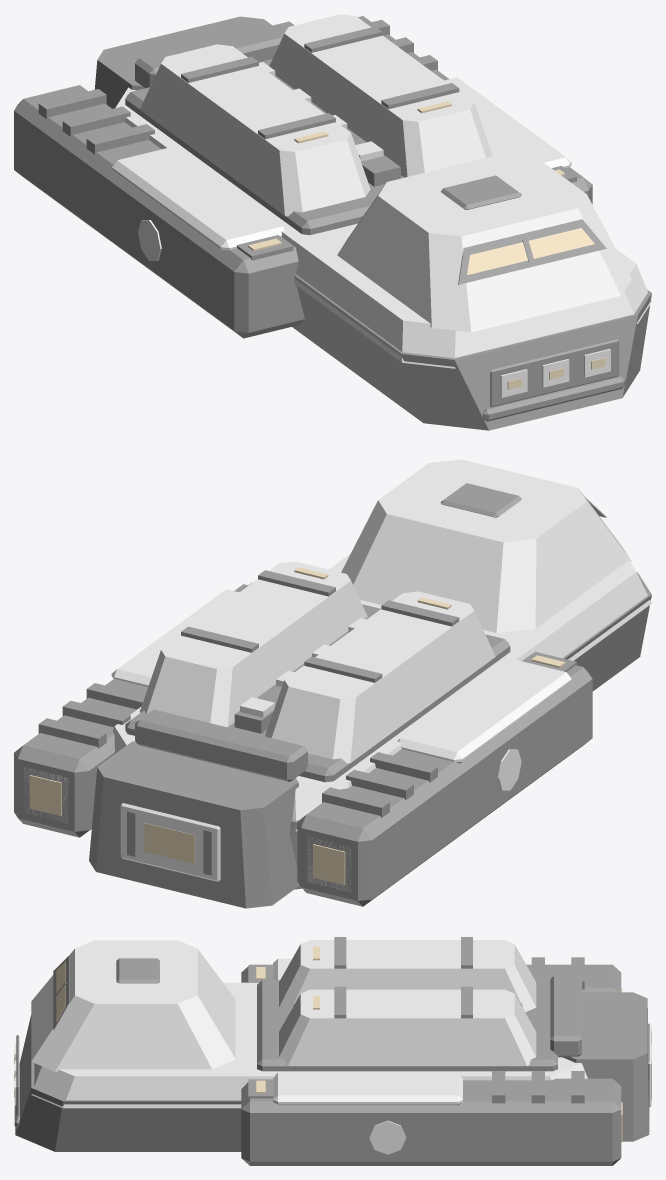
The model's file is Constructor.glb.
3 renders of one model, top to bottom at view 1: azimuth 30°, elevation 25°; view 2: azimuth 150°, elevation 25°; view 3: azimuth 270°, elevation 25°, orthographic. The views are drawn at different scales.
Parts seen in each view (by area): view 1: Enclosed command cab, Engine sponson -1, Fabricator cassette -1, Fabricator cassette 1, Utility keel, Hull deck, Engine armor -1, Stern propulsion plenum, Fabrication bed, Nose tool recess, Engine armor 1, Windscreen frame (+14 smaller); view 2: Enclosed command cab, Engine sponson -1, Stern propulsion plenum, Fabricator cassette -1, Fabricator cassette 1, Hull deck, Engine armor -1, Engine sponson 1, Aft power manifold, Stern nozzle well, Utility keel, Fabrication bed (+18 smaller); view 3: Engine sponson 1, Enclosed command cab, Fabricator cassette 1, Utility keel, Fabricator cassette -1, Hull deck, Stern propulsion plenum, Engine armor 1, Fabrication bed, Aft power manifold, Engine sponson -1, Cab roof hatch (+11 smaller).
Part boxes in pixels (x1=…): Enclosed command cab: x1=337, y1=153, x2=631, y2=332; Engine sponson -1: x1=14, y1=85, x2=304, y2=338; Fabricator cassette -1: x1=139, y1=44, x2=370, y2=216; Fabricator cassette 1: x1=269, y1=14, x2=492, y2=177; Utility keel: x1=292, y1=274, x2=651, y2=430; Hull deck: x1=115, y1=87, x2=651, y2=368; Engine armor -1: x1=111, y1=146, x2=285, y2=251; Stern propulsion plenum: x1=94, y1=16, x2=272, y2=108; Fabrication bed: x1=125, y1=59, x2=403, y2=235; Nose tool recess: x1=490, y1=339, x2=618, y2=407; Engine armor 1: x1=444, y1=77, x2=571, y2=168; Windscreen frame: x1=458, y1=219, x2=606, y2=284; Enclosed command cab: x1=341, y1=459, x2=631, y2=632; Engine sponson -1: x1=297, y1=654, x2=592, y2=906; Stern propulsion plenum: x1=89, y1=741, x2=299, y2=908; Fabricator cassette -1: x1=265, y1=591, x2=495, y2=763; Fabricator cassette 1: x1=139, y1=561, x2=367, y2=727; Hull deck: x1=112, y1=553, x2=651, y2=831; Engine armor -1: x1=397, y1=658, x2=571, y2=763; Engine sponson 1: x1=14, y1=584, x2=247, y2=837; Aft power manifold: x1=135, y1=709, x2=307, y2=781; Stern nozzle well: x1=120, y1=803, x2=220, y2=881; Utility keel: x1=290, y1=572, x2=651, y2=889; Fabrication bed: x1=125, y1=604, x2=510, y2=782; Engine sponson 1: x1=241, y1=1078, x2=621, y2=1165; Enclosed command cab: x1=31, y1=940, x2=235, y2=1071; Fabricator cassette 1: x1=279, y1=989, x2=536, y2=1065; Utility keel: x1=15, y1=1015, x2=241, y2=1151; Fabricator cassette -1: x1=279, y1=940, x2=536, y2=1012; Hull deck: x1=31, y1=982, x2=587, y2=1108; Stern propulsion plenum: x1=563, y1=992, x2=649, y2=1141; Engine armor 1: x1=273, y1=1072, x2=462, y2=1105; Fabrication bed: x1=257, y1=980, x2=557, y2=1071; Aft power manifold: x1=550, y1=975, x2=581, y2=1057; Engine sponson -1: x1=241, y1=964, x2=621, y2=992; Cab roof hatch: x1=116, y1=958, x2=159, y2=983.
Bounding box in the file's own units: 43.35 × 20.75 × 80.53.
